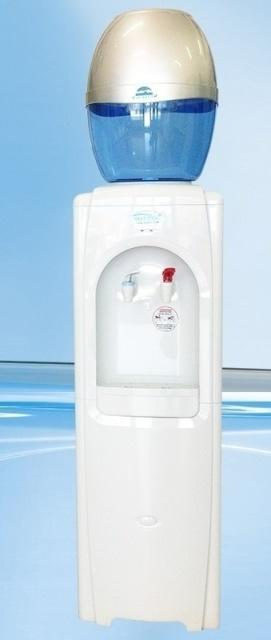Dispenser: (72, 8, 224, 630)
